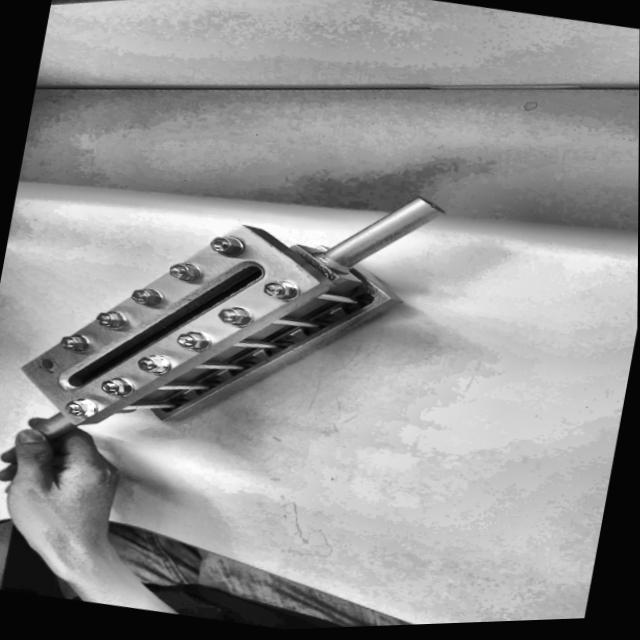ShuiWeiQi_11: (0, 122, 470, 498)
